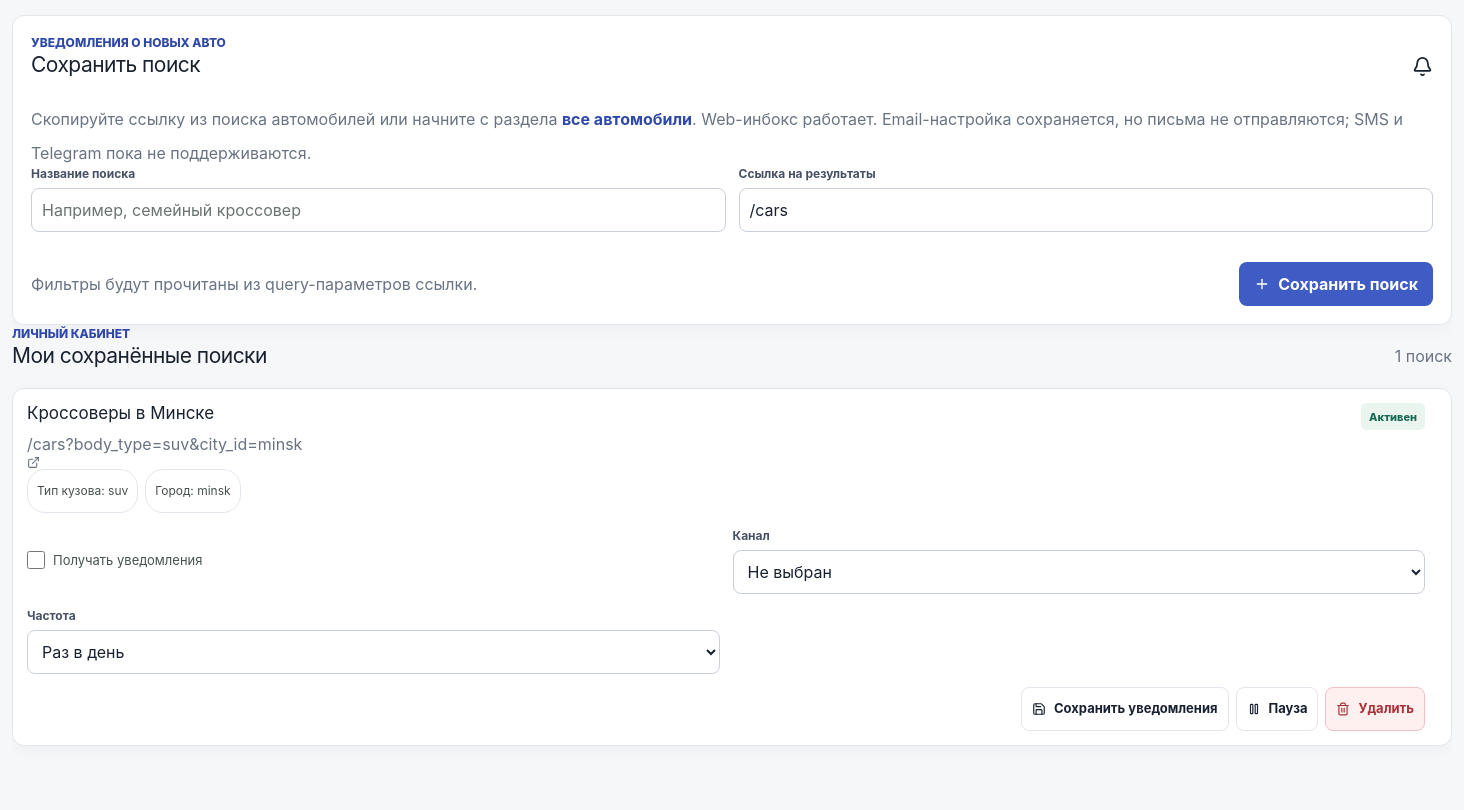
Test: saved searches › saves notification preferences and pauses a search
Click the checkbox labelled "Получать уведомления": [36, 560] box [27,551,45,569]
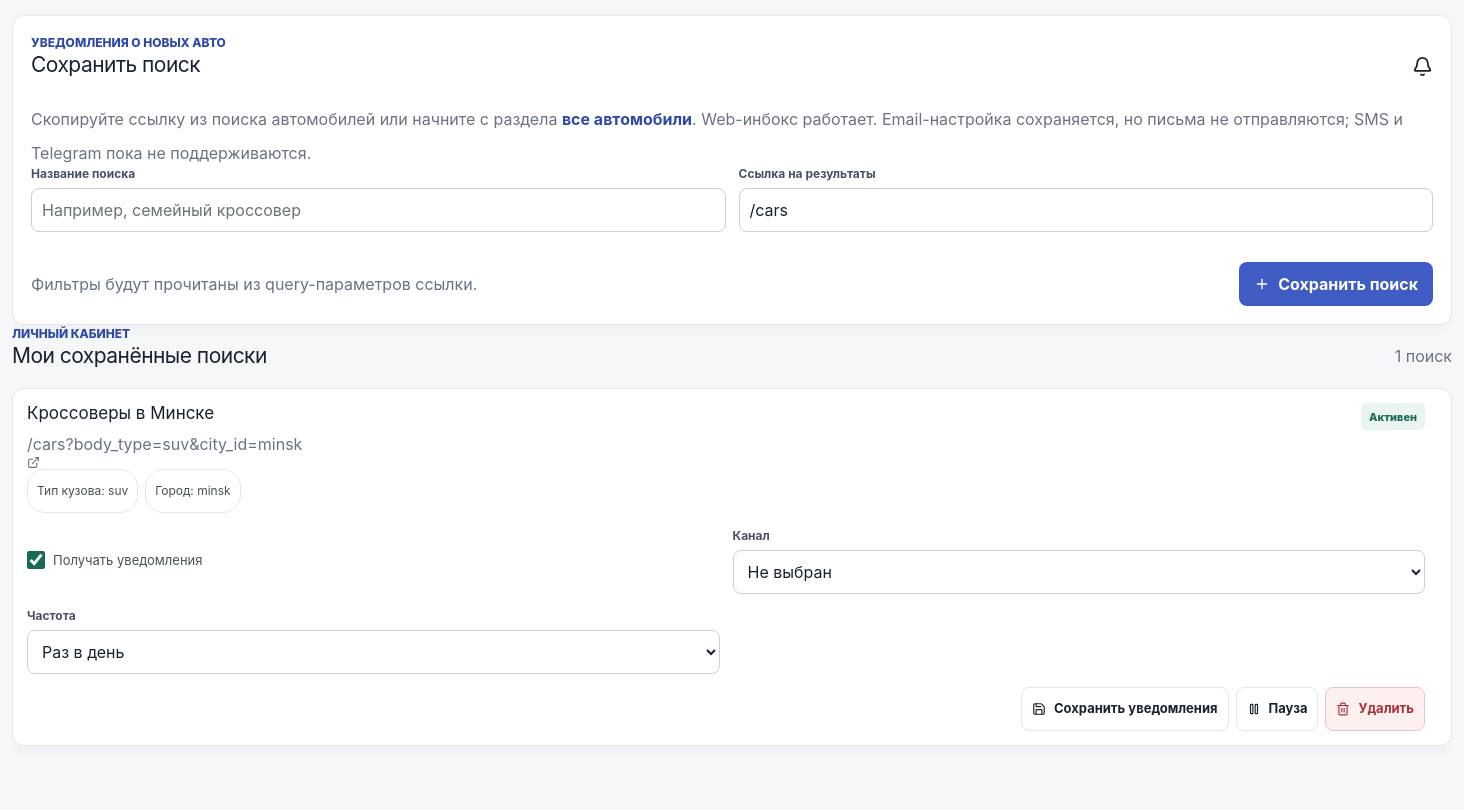
Select "Email — пока не отправляется" in the dropdown labelled "Канал": [1079, 572] box [732,550,1425,594]
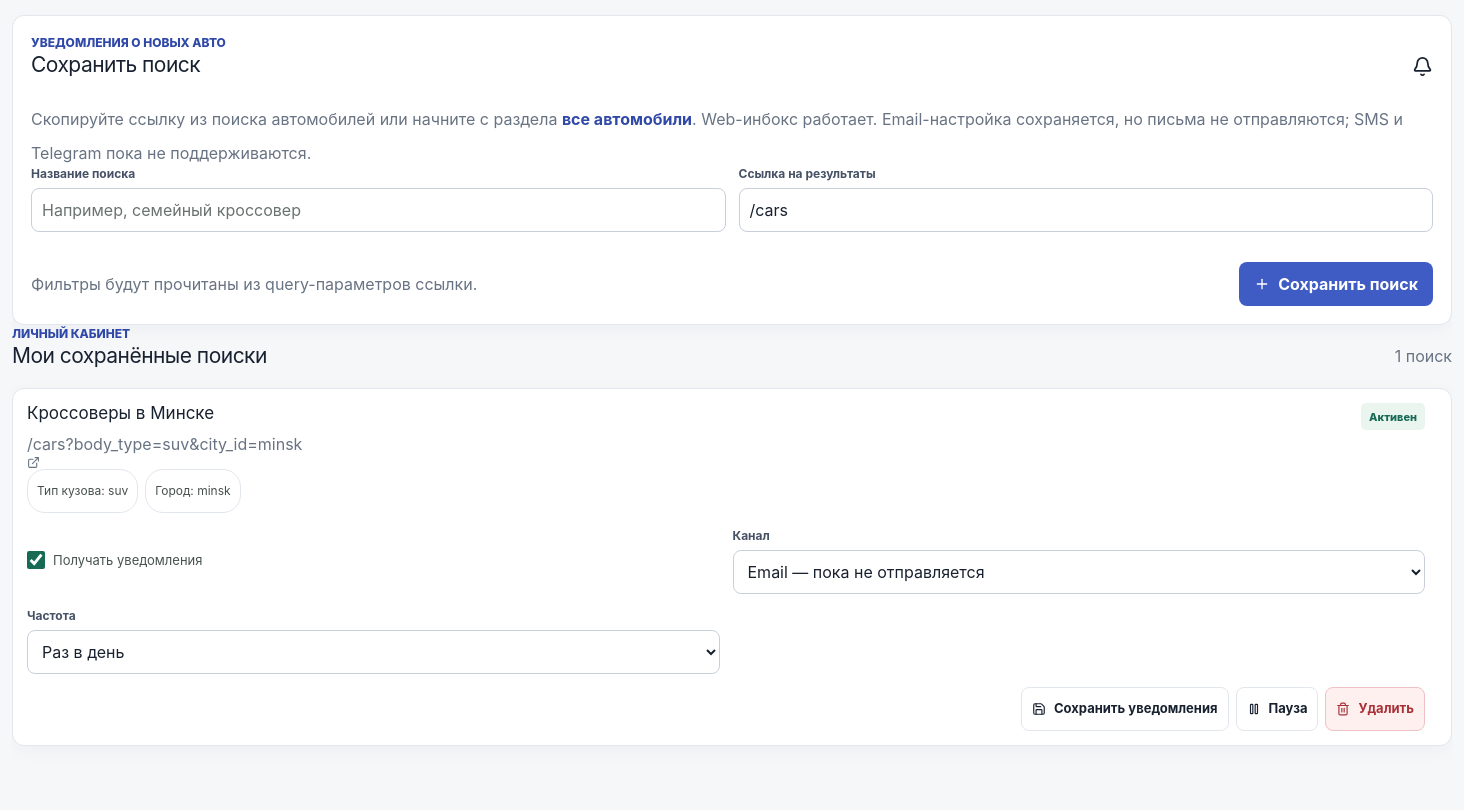
Select "Раз в неделю" in the dropdown labelled "Частота": [373, 652] box [27,630,720,674]
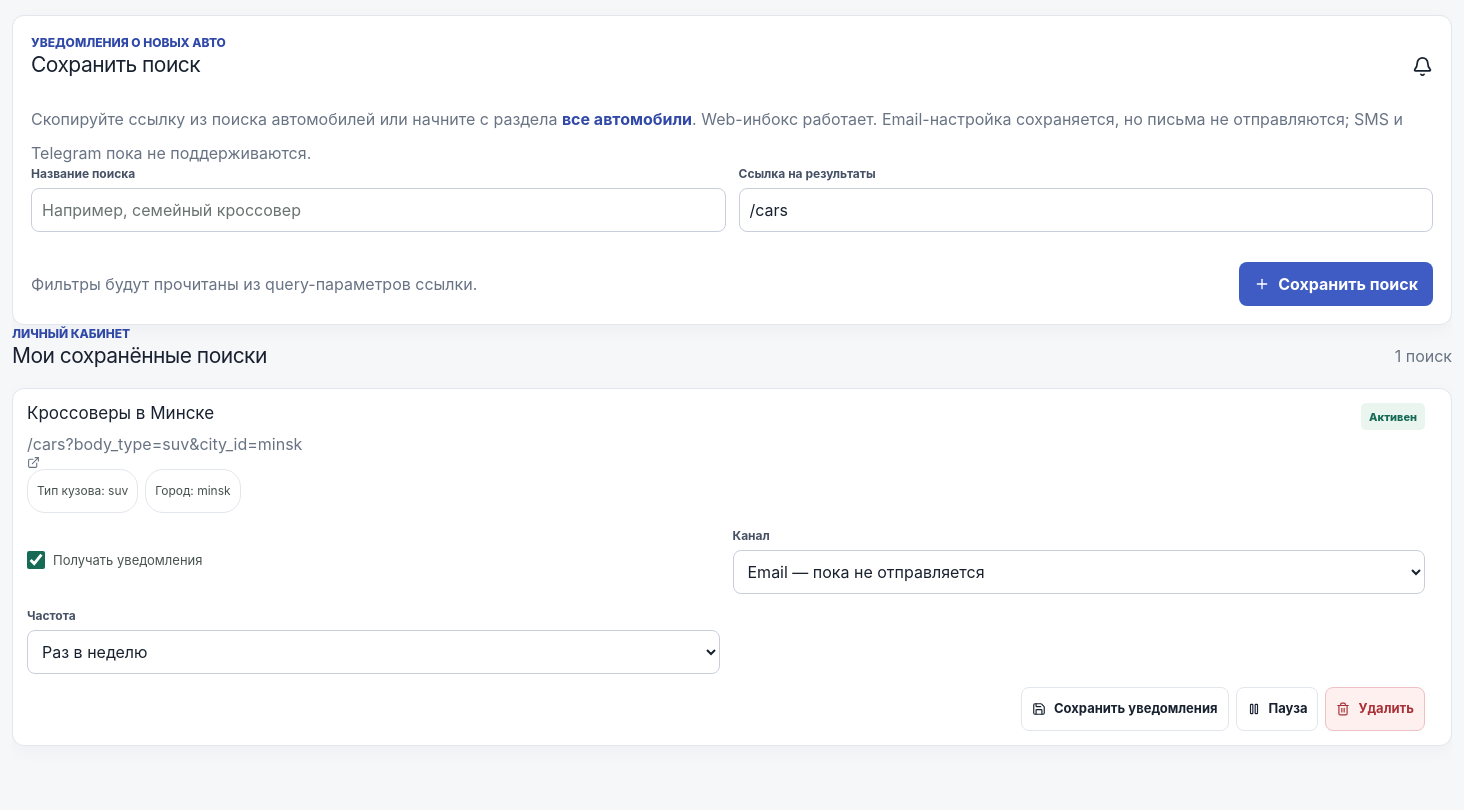
Click the button "Сохранить уведомления": [1125, 709] box [1021,687,1229,731]
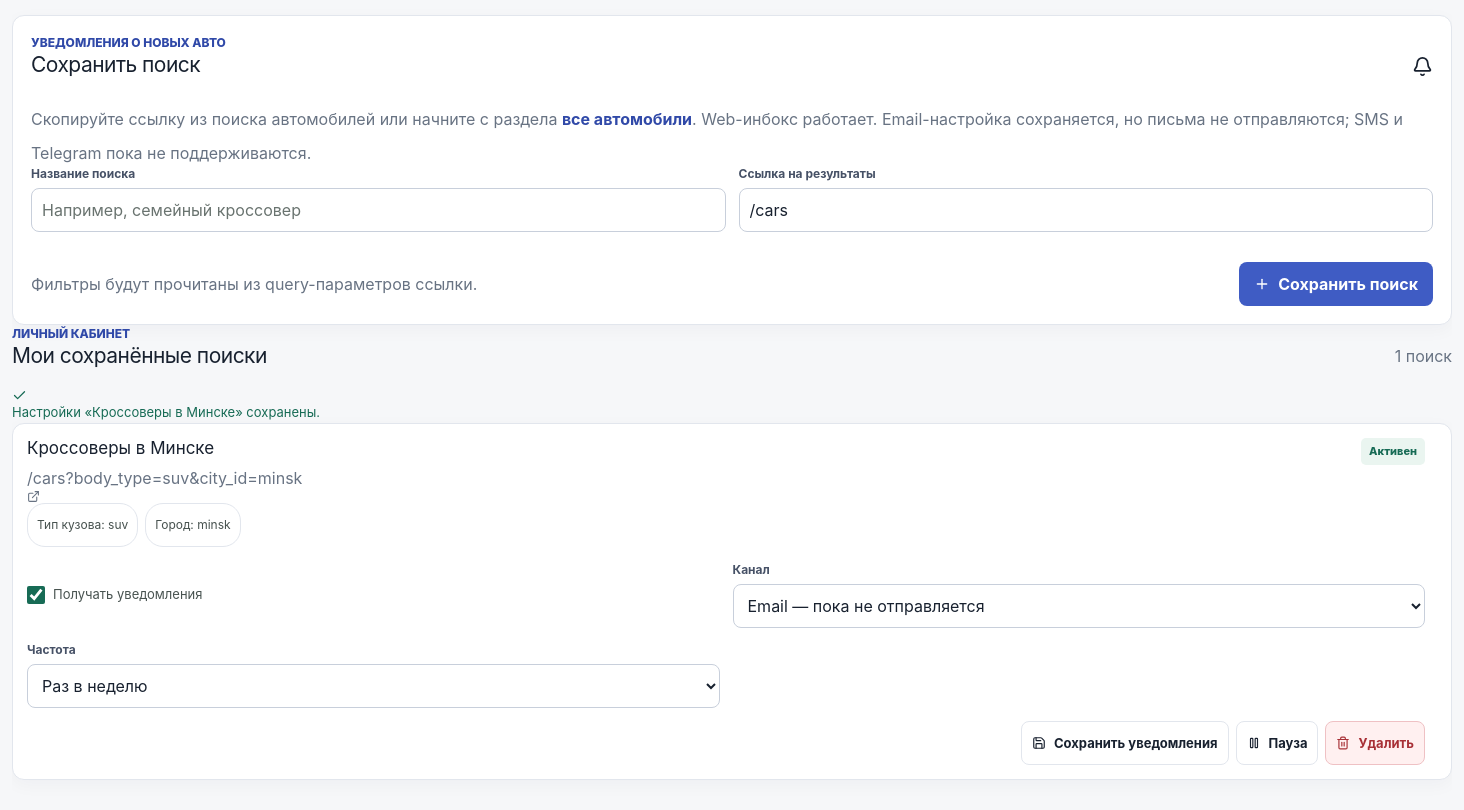
Click the button "Пауза": [1277, 743] box [1236,721,1318,765]
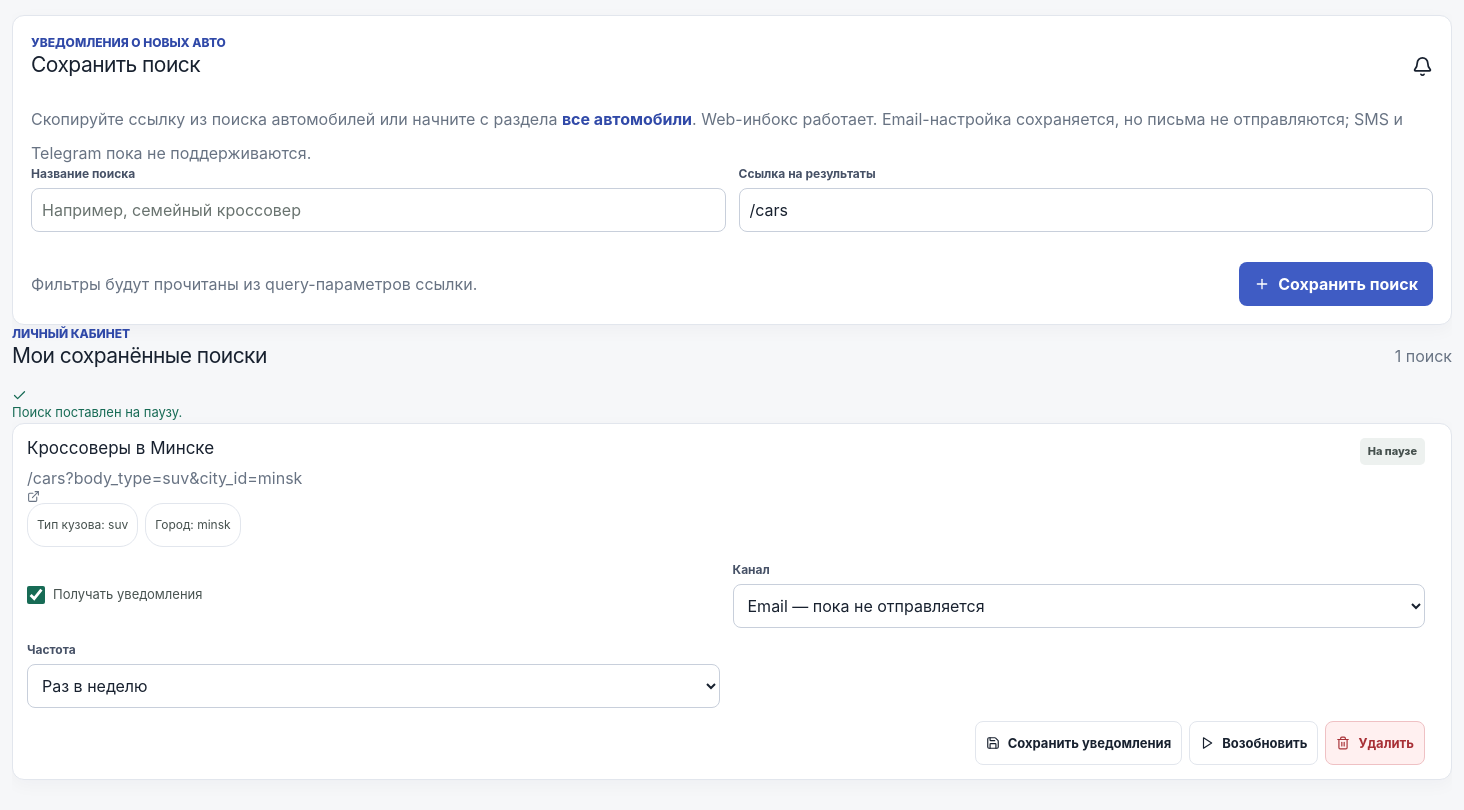
Now the text "На паузе" is shown, box [1360,438,1425,465]
